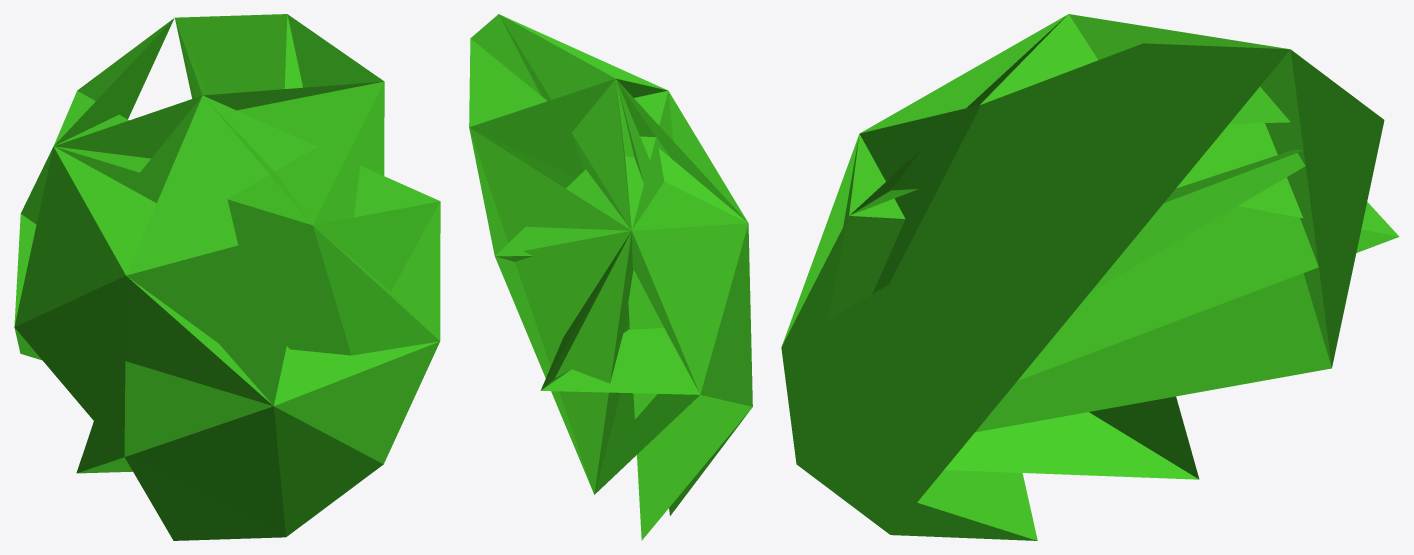
File: S.S._Dolphin_Sagittarius.obj
The picture shows the model from 3 angles, left to right: view 1: azimuth 30°, elevation 25°; view 2: azimuth 150°, elevation 25°; view 3: azimuth 270°, elevation 25°; orthographic projection. The views are drawn at different scales.
Visible parts, largest first — view 1: S.S._Dolphin_Sagittarius; view 2: S.S._Dolphin_Sagittarius; view 3: S.S._Dolphin_Sagittarius.
Part boxes in pixels (x1,y1,x2,y2): S.S._Dolphin_Sagittarius: (14, 14, 440, 540); S.S._Dolphin_Sagittarius: (469, 14, 752, 540); S.S._Dolphin_Sagittarius: (781, 14, 1399, 540).
Bounding box in the file's own units: 0.7469 × 1.14 × 1.07.
